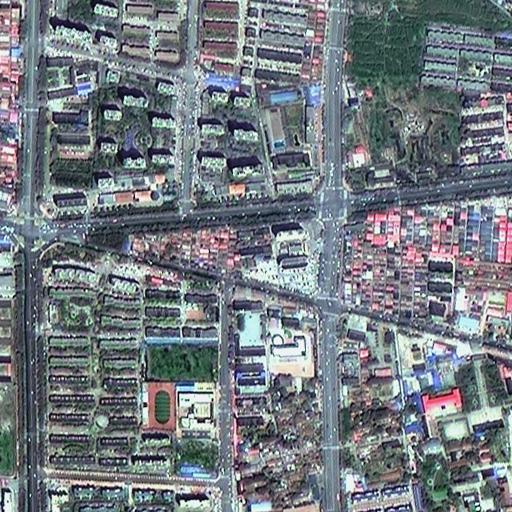school: (257, 88, 319, 194), (141, 381, 217, 433), (232, 302, 265, 395)
